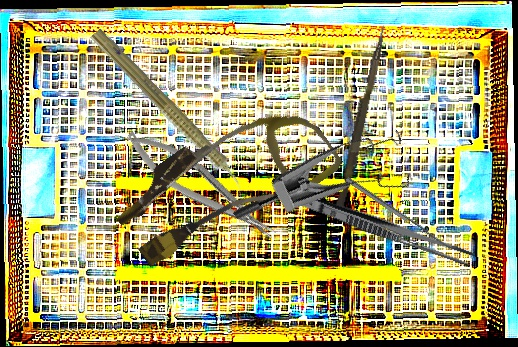Cannula: (105, 77, 345, 290)
Dressing Forceps: (272, 181, 476, 269)
Handpiece: (83, 24, 257, 203)
Needle Holder: (118, 118, 282, 255)
Pusher: (333, 22, 388, 217)
Spatula Surgical: (345, 172, 459, 254)
Speculum: (231, 100, 429, 282)
